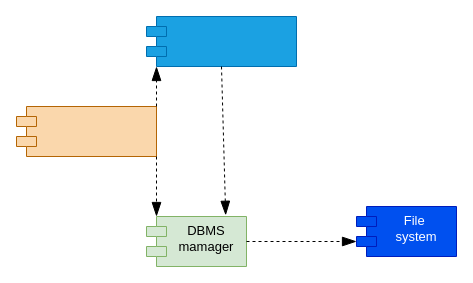
Image size: 473x283. Some labels were removed from this diagram. Here are the shapes that lost their labels. From the top down, the centre of each, then its label:
point 221,41: DBMS Application Server
point 86,131: DBMS Application Client
